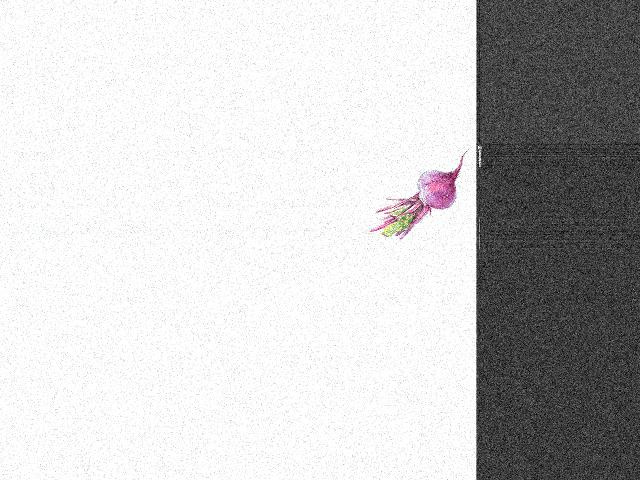beet: (368, 147, 471, 239)
